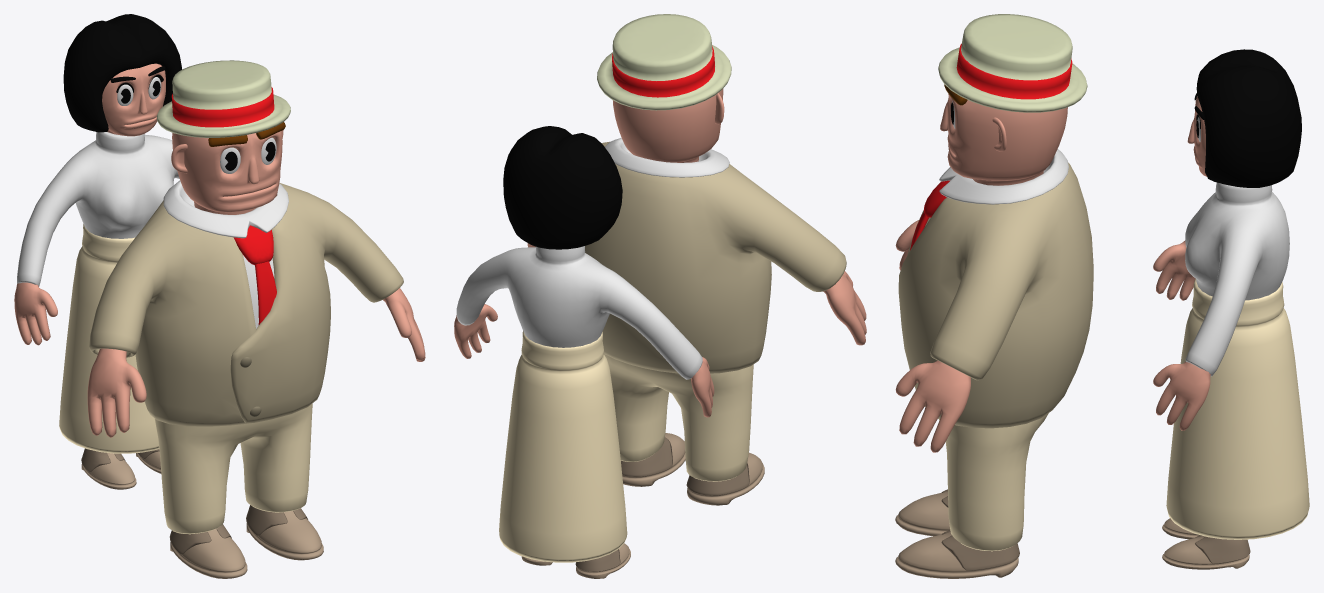
Rendered from SM_MauritsBert(y)Reference.fbx.
The picture shows the model from 3 angles, left to right: view 1: azimuth 30°, elevation 25°; view 2: azimuth 150°, elevation 25°; view 3: azimuth 270°, elevation 25°; orthographic projection. The views are drawn at different scales.
Parts seen in each view (by area): view 1: MauritsBertReference, MauritsBertyReference; view 2: MauritsBertReference, MauritsBertyReference; view 3: MauritsBertReference, MauritsBertyReference.
Boxes of the visible parts, bbox=[...] form: MauritsBertReference: bbox=[87, 60, 425, 578]; MauritsBertyReference: bbox=[14, 14, 181, 489]; MauritsBertReference: bbox=[527, 14, 866, 505]; MauritsBertyReference: bbox=[454, 126, 714, 578]; MauritsBertReference: bbox=[895, 14, 1093, 578]; MauritsBertyReference: bbox=[1153, 49, 1309, 569].
Size of the model in its own units: 1.28 by 1.69 by 1.23.
